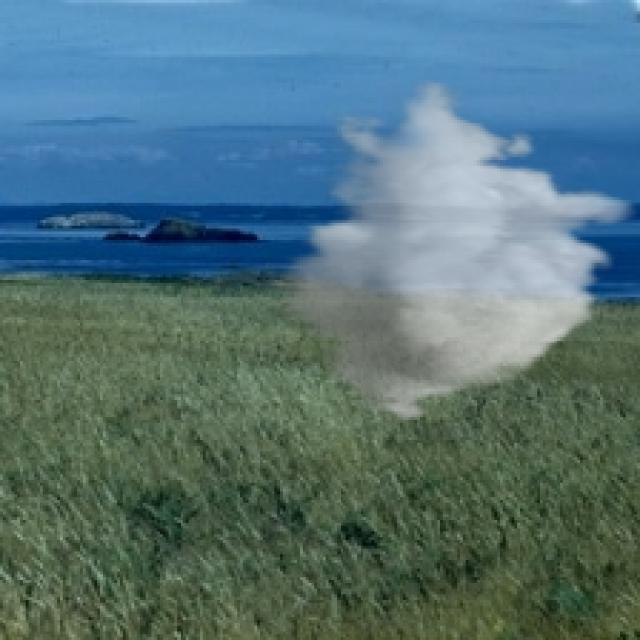smoke: (266, 80, 637, 429)
